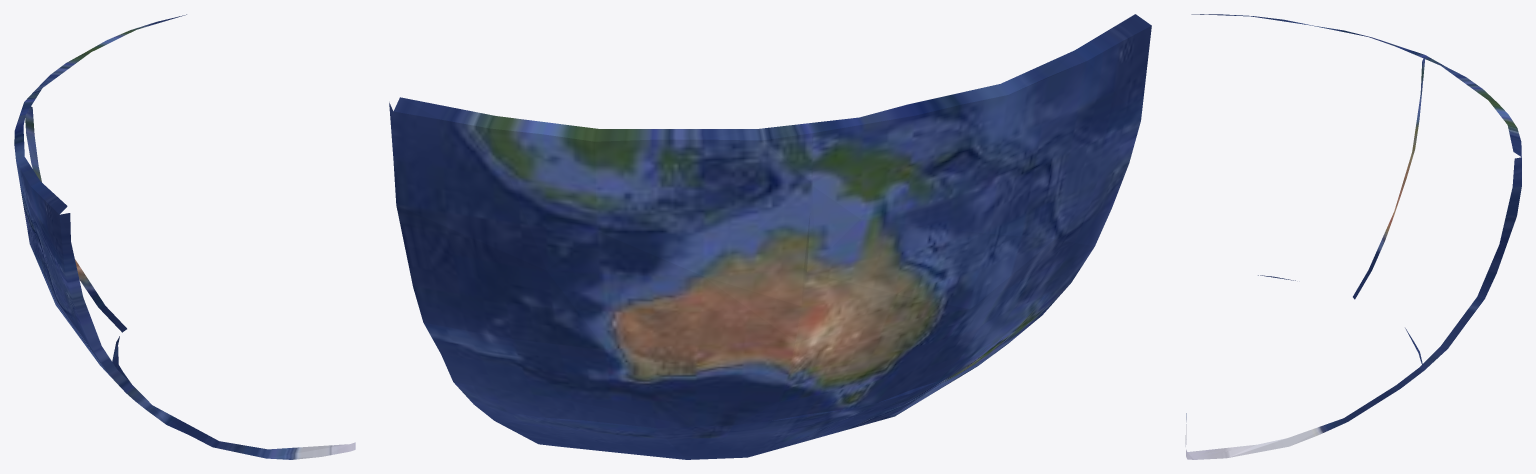
3 renders of one model, left to right at view 1: azimuth 30°, elevation 25°; view 2: azimuth 150°, elevation 25°; view 3: azimuth 270°, elevation 25°, orthographic. The views are drawn at different scales.
Size of the model in its own units: 6527882 by 6446304 by 6489284.
Materials: 1 (1 with a texture image).
